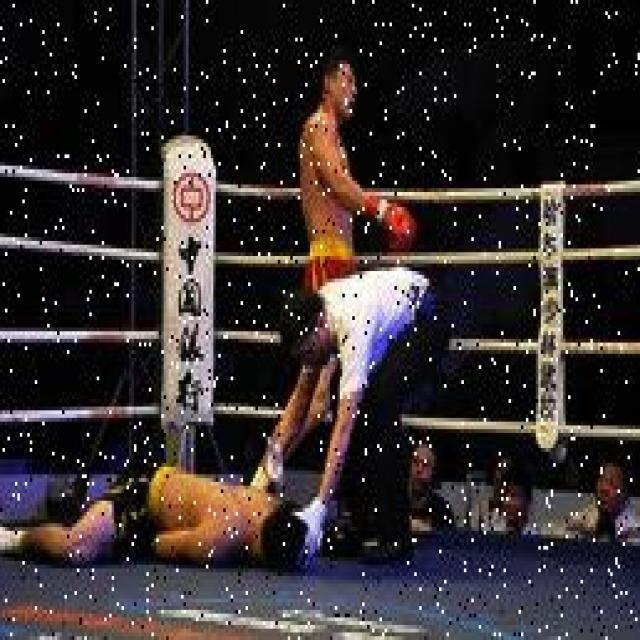fall: (8, 452, 305, 561)
